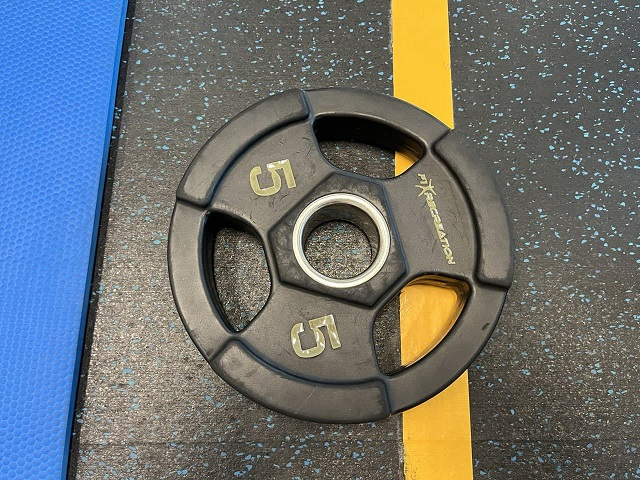weights: (167, 86, 516, 425)
